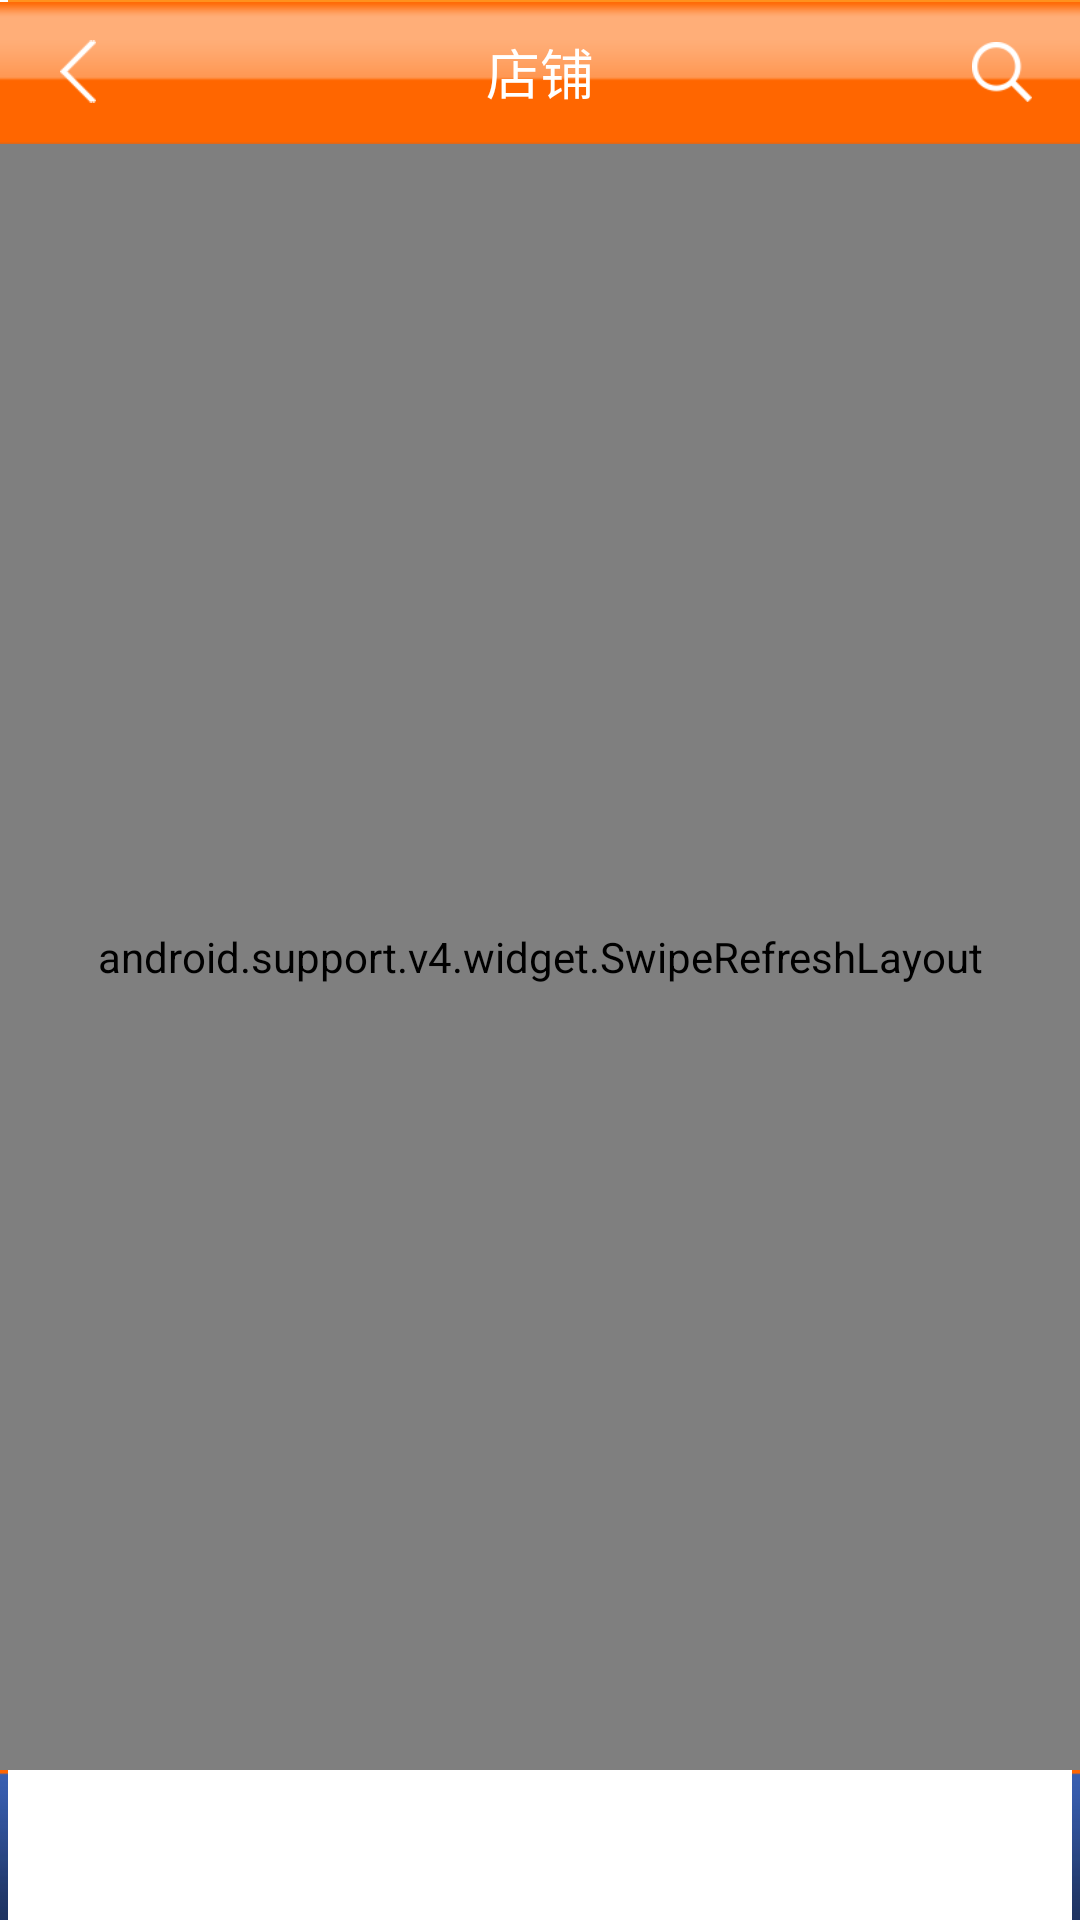

Named icons in this screenshot (1080 × 1920) and their centers, [x,y]:
back: [78,71]
search: [1002,72]
